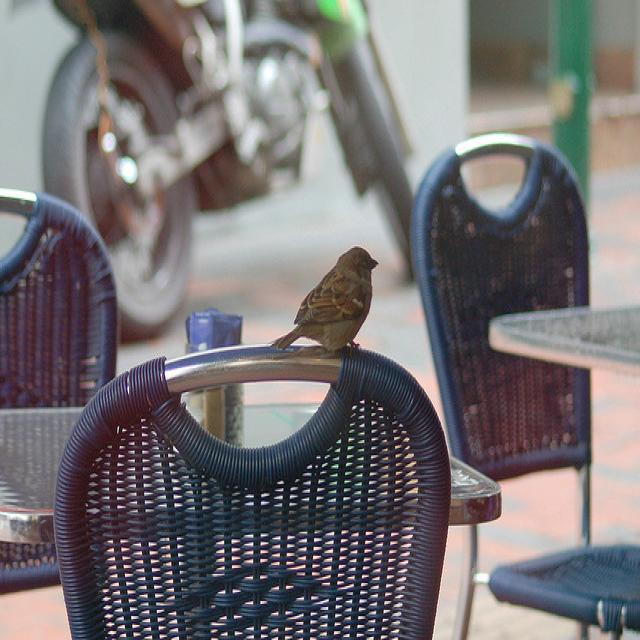motor: (41, 1, 415, 341)
